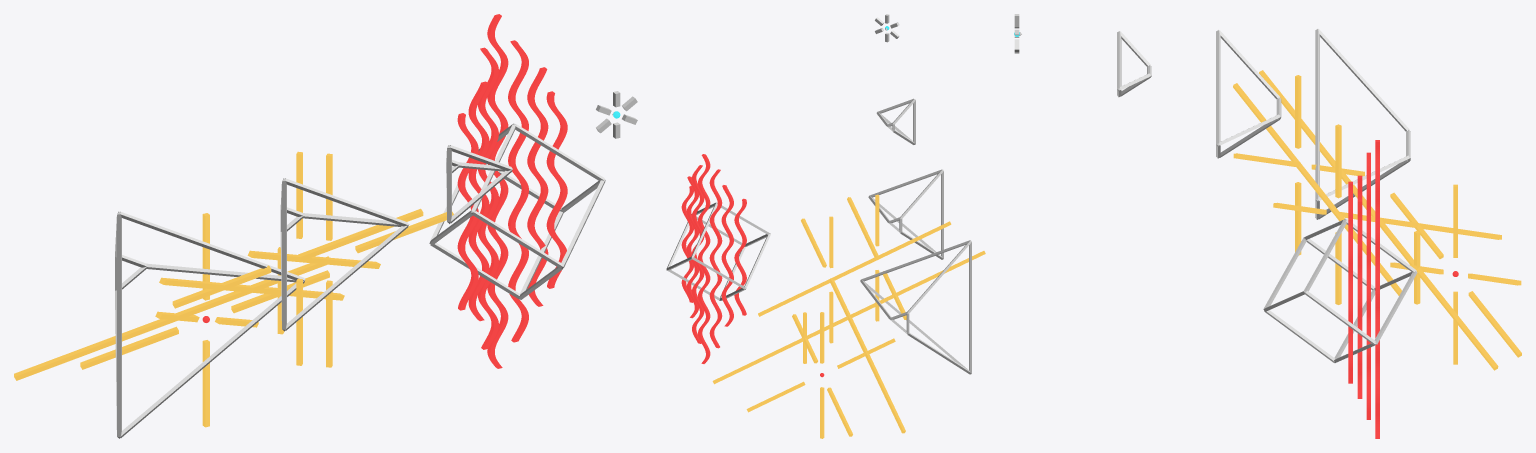
The model's file is szakall.fbx.
3 views of the same model, side by side, from view 1: azimuth 30°, elevation 25°; view 2: azimuth 150°, elevation 25°; view 3: azimuth 270°, elevation 25° (orthographic). The views are drawn at different scales.
Visible parts, largest first — view 1: Disc_0, Platonic_2, Disc_1, Cube_2_1, Cube_2_5_2, Cube_2_0_2, Cube_2_0_1, Cube_2_2, Cube_2_0, Disc_2, Cube_2_2_1, Cube_2_2_2 (+8 smaller); view 2: Disc_0, Platonic_2, Disc_1, Cube_2_5_1, Cube_2_1, Cube_2_5, Cube_2_0_1, Cube_2_5_2, Cube_2_0_2, Cube_2_0, Cube_2_2, Disc_2 (+3 smaller); view 3: Platonic_2, Disc_0, Cube_2_5_1, Disc_1, Cube_2_1, Cube_2_5, Cube_2_0_2, Cube_2_2, Cube_2_2_1, Cube_2_5_2, Disc_2, Cube_2_5_9 (+3 smaller).
Boxes of the visible parts, x1,y1,x2,y2 form: Disc_0: (115,211,305,438); Platonic_2: (429,123,605,299); Disc_1: (280,178,409,331); Cube_2_1: (487,14,508,368); Cube_2_5_2: (14,256,329,380); Cube_2_0_2: (508,40,528,342); Cube_2_0_1: (478,47,498,349); Cube_2_2: (527,67,548,306); Cube_2_0: (468,81,489,321); Disc_2: (446,145,512,223); Cube_2_2_1: (546,91,567,288); Cube_2_2_2: (457,113,478,310); Disc_0: (860,240,971,374); Platonic_2: (666,202,770,300); Disc_1: (868,169,943,259); Cube_2_5_1: (712,251,985,384); Cube_2_1: (698,154,710,363); Cube_2_5: (758,221,951,316); Cube_2_0_1: (709,169,722,348); Cube_2_5_2: (830,278,905,433); Cube_2_0_2: (692,165,704,343); Cube_2_0: (721,185,733,326); Cube_2_2: (686,176,698,318); Disc_2: (876,98,915,144); Platonic_2: (1263,218,1417,362); Disc_0: (1315,29,1410,219); Cube_2_5_1: (1259,70,1498,370); Disc_1: (1216,30,1281,158); Cube_2_1: (1375,140,1379,438); Cube_2_5: (1233,83,1401,295); Cube_2_0_2: (1366,165,1370,419); Cube_2_2: (1357,199,1362,398); Cube_2_2_1: (1348,218,1352,383); Cube_2_5_2: (1339,212,1501,239); Disc_2: (1117,31,1151,97); Cube_2_5_9: (1468,291,1521,357).
Size of the model in its own units: 609 by 589 by 660.
